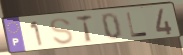0: (101, 12, 123, 42)
1: (28, 20, 45, 48)
4: (155, 7, 174, 36)
L: (125, 11, 150, 39)
S: (49, 17, 76, 46)
T: (75, 14, 95, 44)
